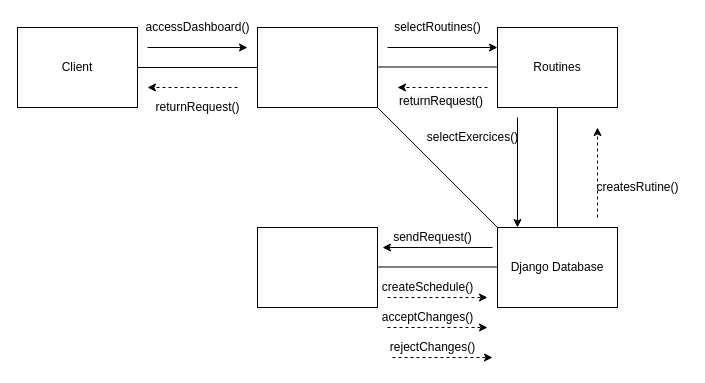
The diagram is 705 pixels wide and 383 high, and some of its shapes have lost their labels. Each missing label, with the centre of its shape:
"Admin/Trainer" belongs at point 317,267.
"Dashboard" belongs at point 317,67.
